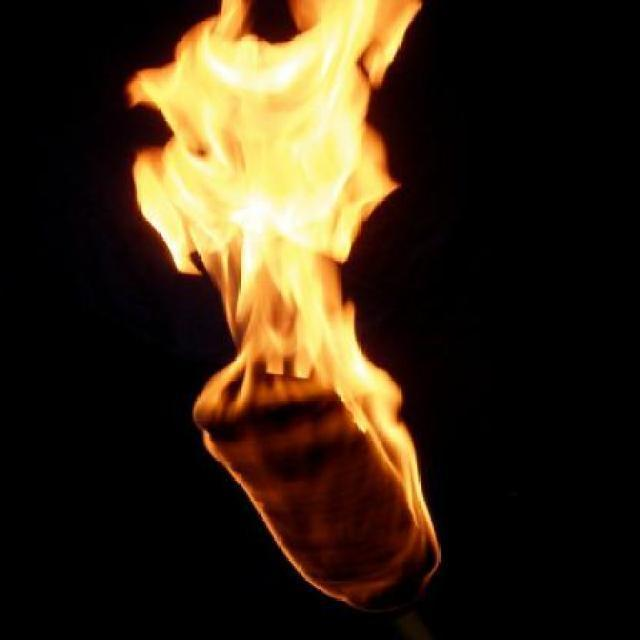fire: (121, 0, 445, 614)
